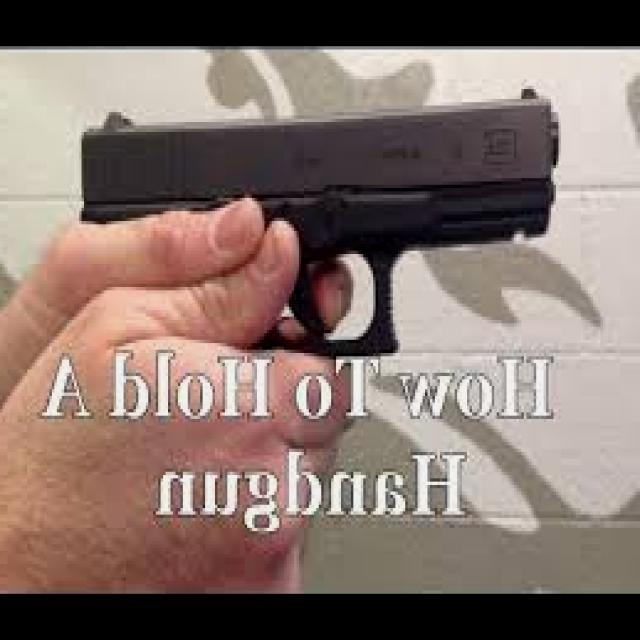pistol: (79, 73, 563, 370)
